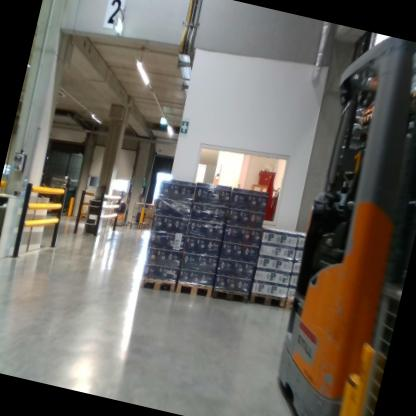forklift: (262, 29, 416, 416)
pallet: (174, 273, 215, 307), (135, 268, 179, 298), (210, 281, 252, 311), (247, 288, 287, 319)
pallet_truck: (106, 187, 135, 232)
stillage: (355, 276, 404, 416)
